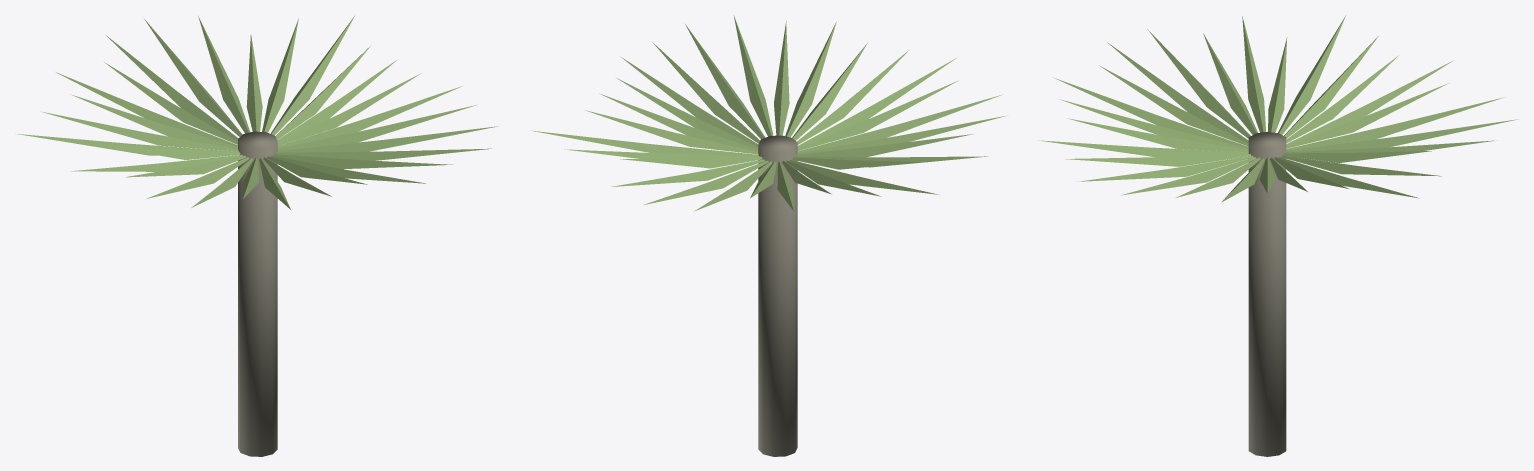
The model's file is dongpo-spiky-pot.glb.
3 views of the same model, side by side, from view 1: azimuth 30°, elevation 25°; view 2: azimuth 150°, elevation 25°; view 3: azimuth 270°, elevation 25° (orthographic).
Visible parts, largest first — view 1: dongpo-spiky-pot; view 2: dongpo-spiky-pot; view 3: dongpo-spiky-pot.
Part boxes in pixels (x1,y1,x2,y2): dongpo-spiky-pot: [15, 16, 497, 456]; dongpo-spiky-pot: [531, 15, 1006, 456]; dongpo-spiky-pot: [1038, 15, 1517, 456].
Size of the model in its own units: 1.01 by 0.837 by 1.09.
